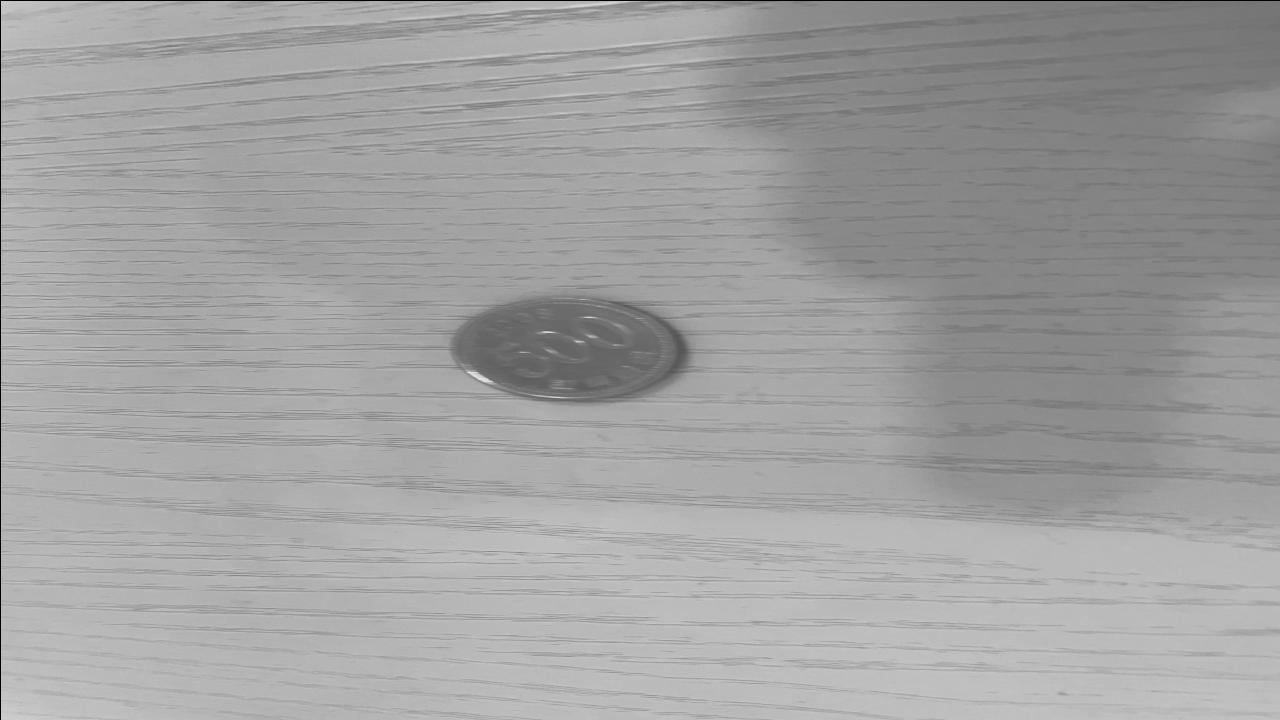coin: (440, 294, 692, 404)
